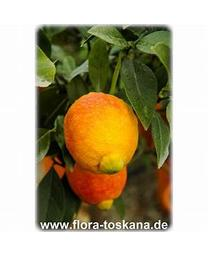lemon: (64, 92, 139, 177)
